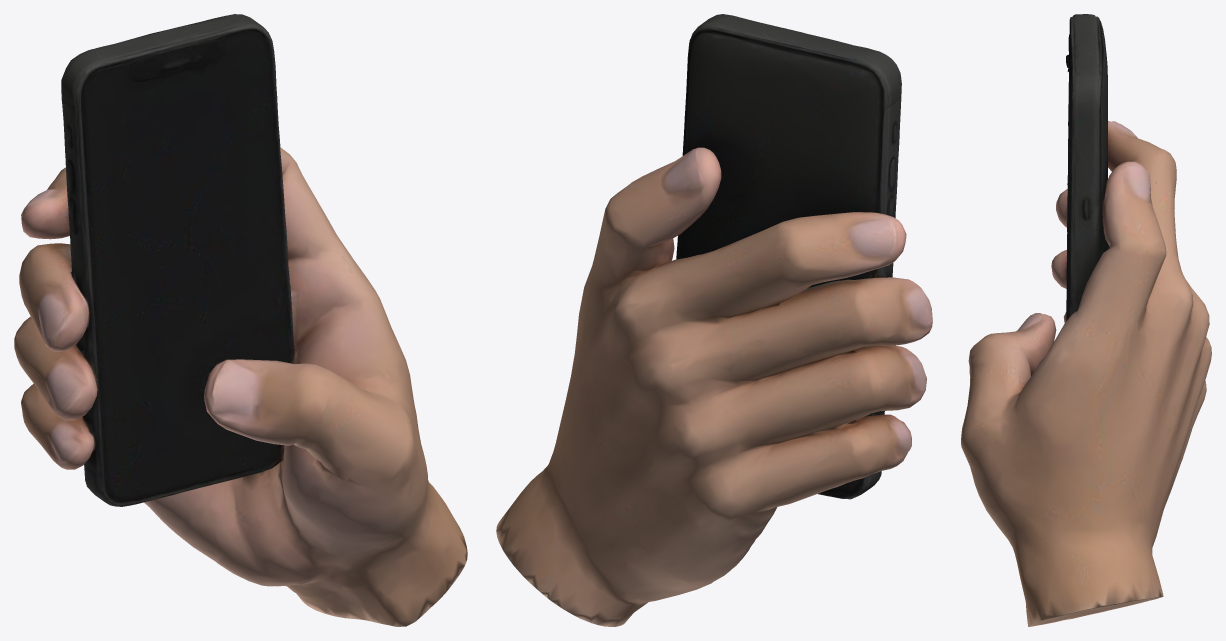
The model's file is hand_phone.glb.
3 views of the same model, side by side, from view 1: azimuth 30°, elevation 25°; view 2: azimuth 150°, elevation 25°; view 3: azimuth 270°, elevation 25° (orthographic). The views are drawn at different scales.
Parts seen in each view (by area): view 1: tripo_node_a83d386d-d198-4a71-bd43-a41b0897a874; view 2: tripo_node_a83d386d-d198-4a71-bd43-a41b0897a874; view 3: tripo_node_a83d386d-d198-4a71-bd43-a41b0897a874.
Boxes of the visible parts, <box> form: tripo_node_a83d386d-d198-4a71-bd43-a41b0897a874: <box>14,14,467,626</box>; tripo_node_a83d386d-d198-4a71-bd43-a41b0897a874: <box>496,14,932,626</box>; tripo_node_a83d386d-d198-4a71-bd43-a41b0897a874: <box>961,14,1211,626</box>.
Bounding box in the file's own units: 0.1512 × 0.2152 × 0.097.
Materials: 1 (1 with a texture image).
